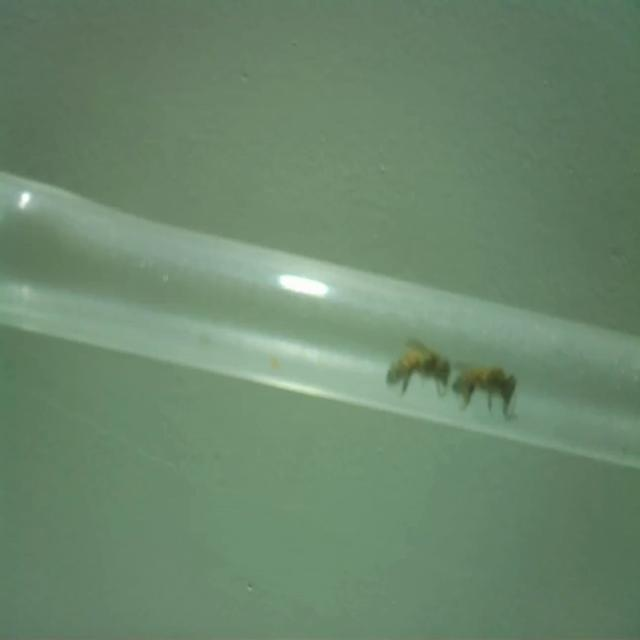Honeybee-Detection: (386, 336, 451, 396), (452, 366, 517, 417)
